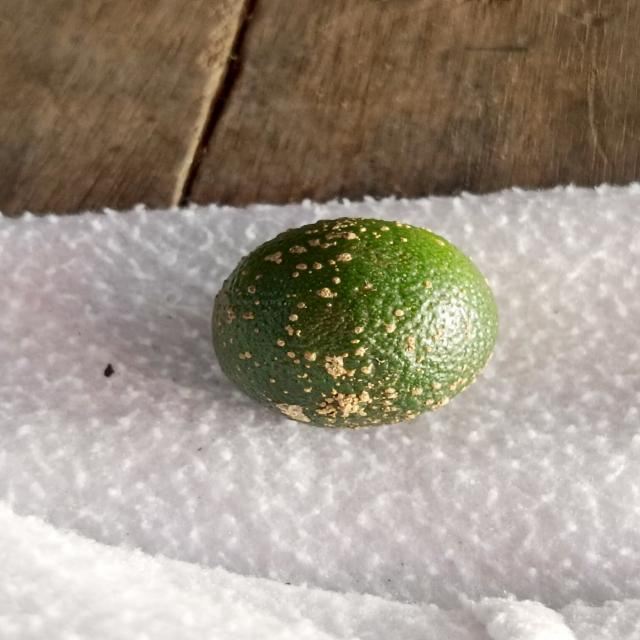scab: (213, 218, 496, 426)
